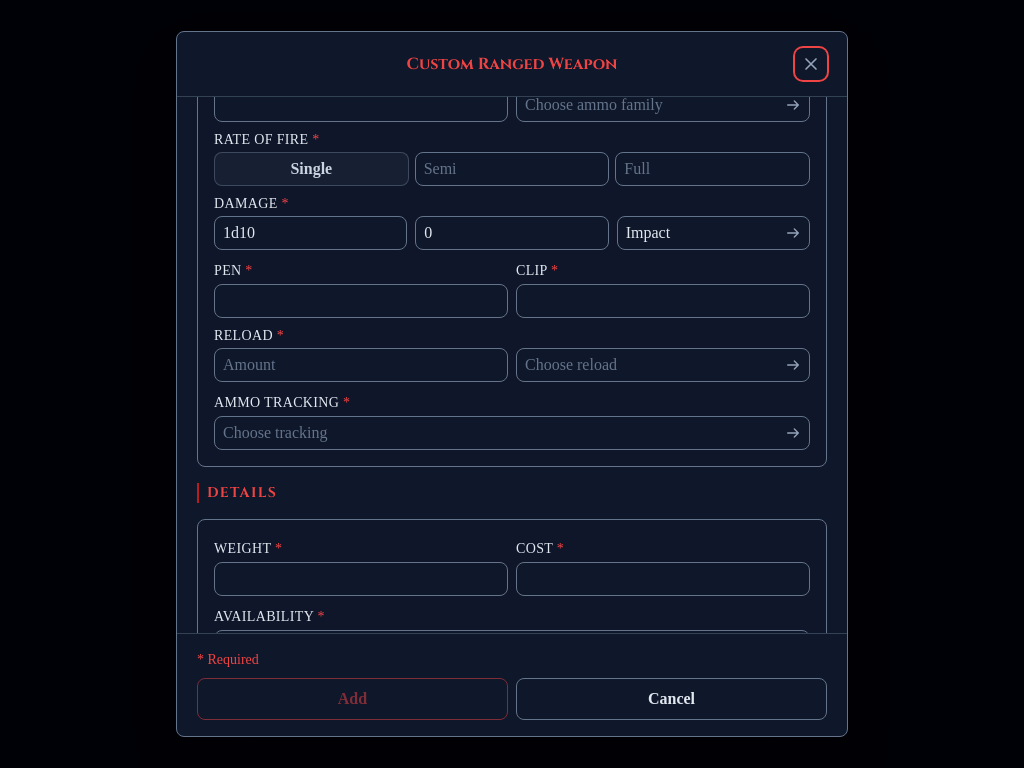
Test: CustomRangedForm › disables and clears the reload amount field when reload type is the em-dash placeholder
(page scrolled)
Type "4" into the field with placeholder "Amount". click: (361, 365)
box: x1=214 y1=348 x2=508 y2=382
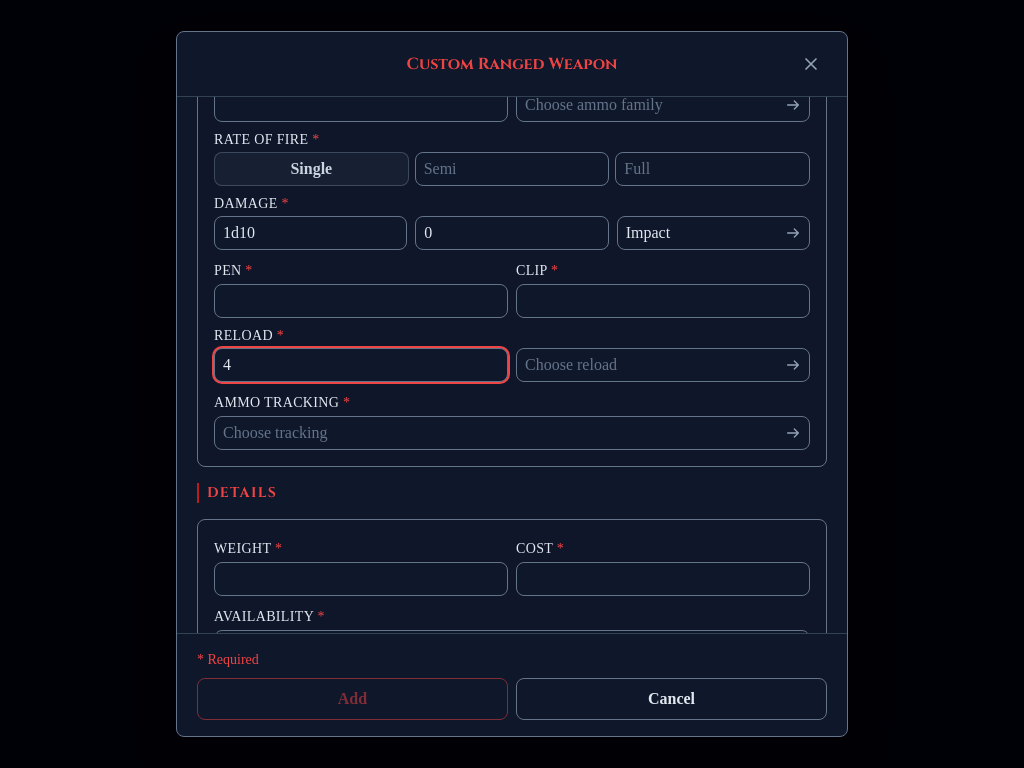
Click the button "Choose reload". click: (571, 364)
box: x1=516 y1=348 x2=810 y2=382
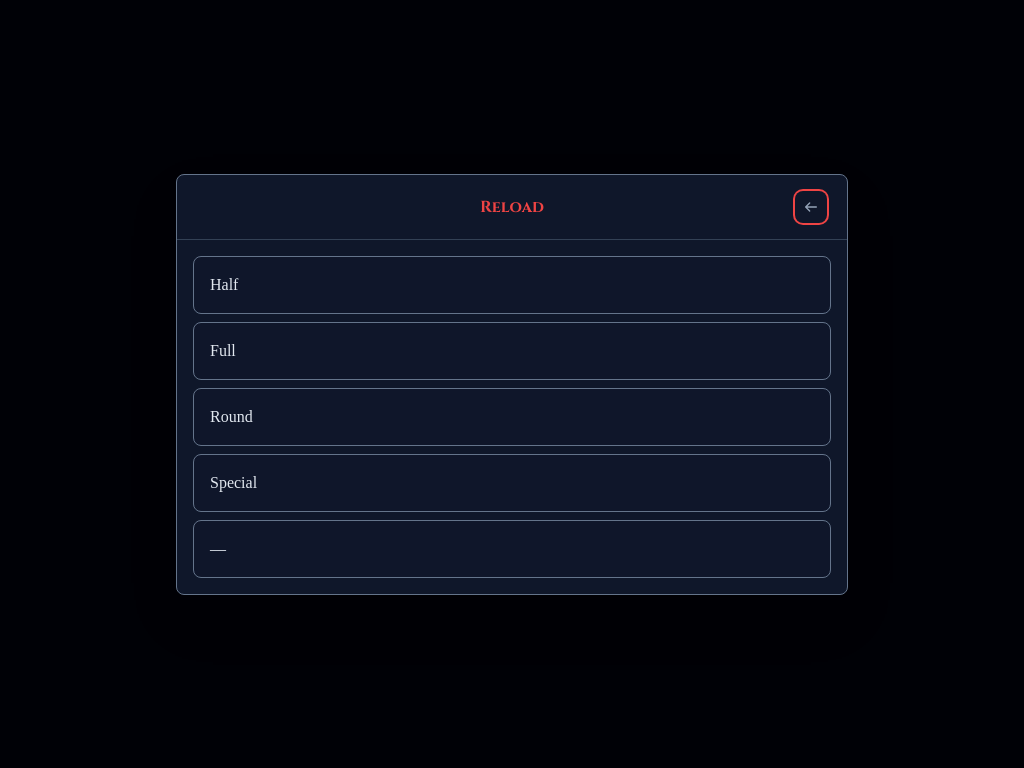
Click the button "—". click: (218, 548)
box: x1=193 y1=520 x2=831 y2=578
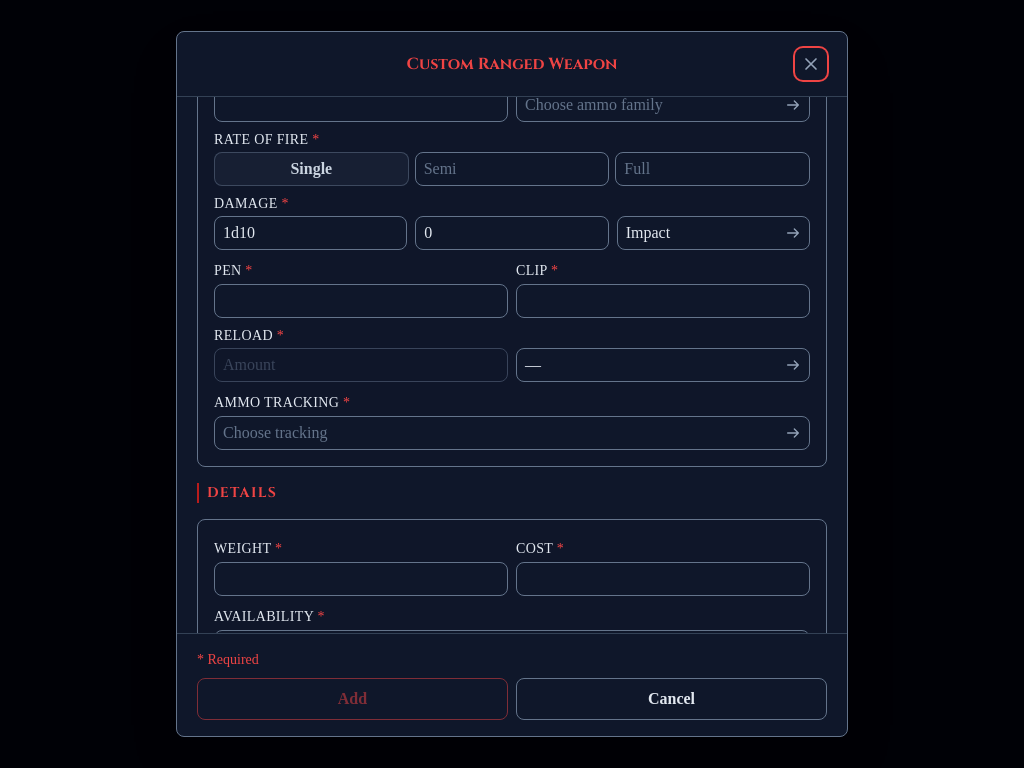
Expected: the field with placeholder "Amount" is disabled, x1=214 y1=348 x2=508 y2=382
Expected: the field with placeholder "Amount" is empty, x1=214 y1=348 x2=508 y2=382
